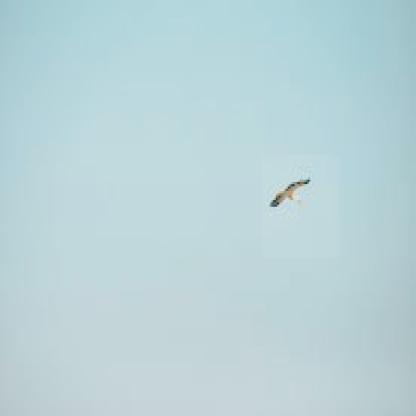bird: (262, 155, 340, 258)
